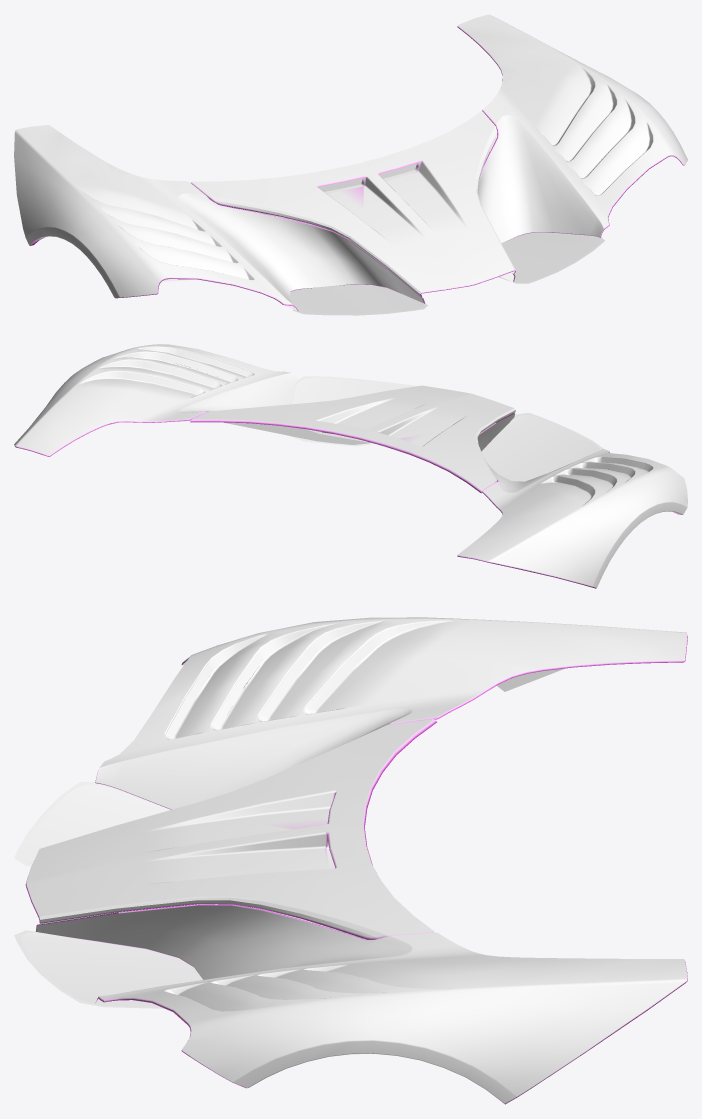
The model's file is Car_Ford_GT_2017_Hood_SetM.fbx.
The picture shows the model from 3 angles, top to bottom: view 1: azimuth 30°, elevation 25°; view 2: azimuth 150°, elevation 25°; view 3: azimuth 270°, elevation 25°; orthographic projection. The views are drawn at different scales.
Parts seen in each view (by area): view 1: Hood 6; view 2: Hood 6; view 3: Hood 6.
Part boxes in pixels (x1,y1,x2,y2): Hood 6: (14,14,687,315); Hood 6: (14,344,687,588); Hood 6: (14,617,687,1104).
Size of the model in its own units: 1.96 by 0.2586 by 1.33.
